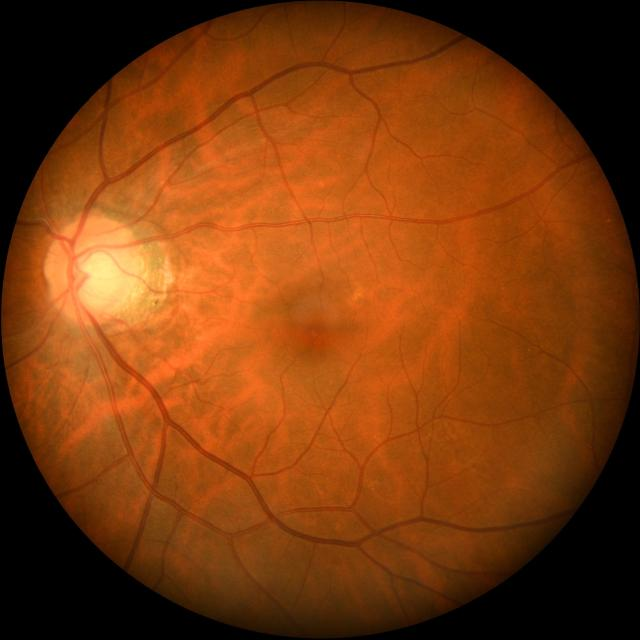OC: (71, 245, 122, 311)
OD: (46, 215, 139, 321)
